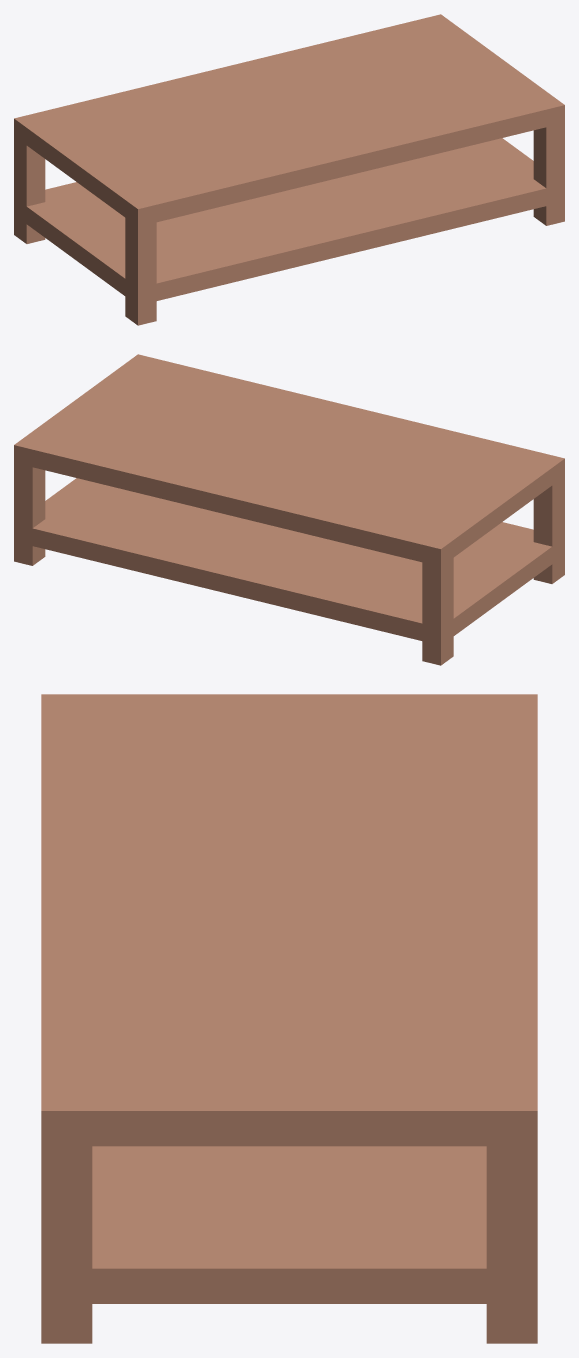
Rendered from TableBasse2.fbx.
The picture shows the model from 3 angles, top to bottom: view 1: azimuth 30°, elevation 25°; view 2: azimuth 150°, elevation 25°; view 3: azimuth 270°, elevation 25°; orthographic projection. The views are drawn at different scales.
Visible parts, largest first — view 1: Cube.024; view 2: Cube.024; view 3: Cube.024.
Part boxes in pixels (x1=…): Cube.024: x1=14, y1=14, x2=564, y2=325; Cube.024: x1=14, y1=354, x2=564, y2=665; Cube.024: x1=41, y1=694, x2=537, y2=1343.
Size of the model in its own units: 498 by 130 by 250.
